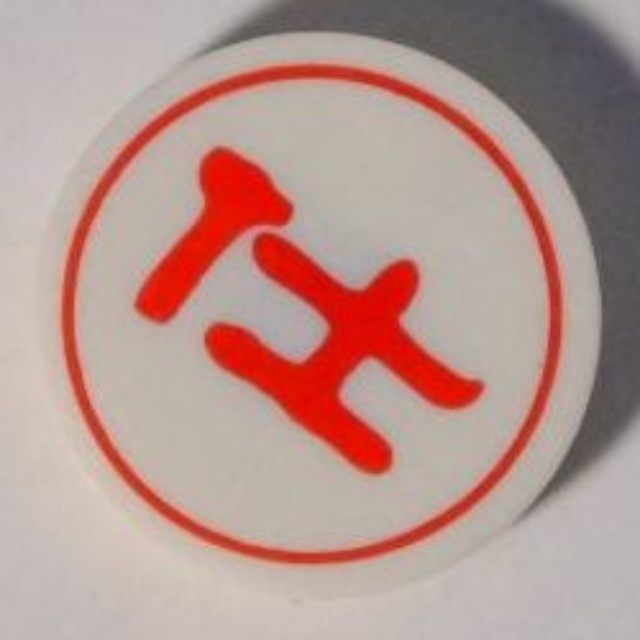red_si: (24, 25, 610, 593)
